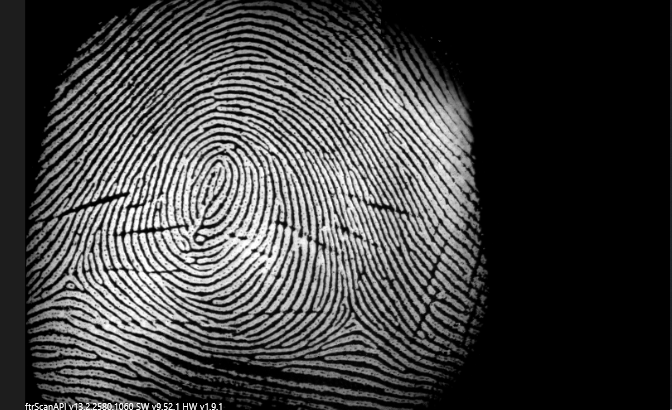nucelo: (201, 149, 231, 207)
verticilo: (47, 260, 94, 297), (335, 295, 369, 332)
